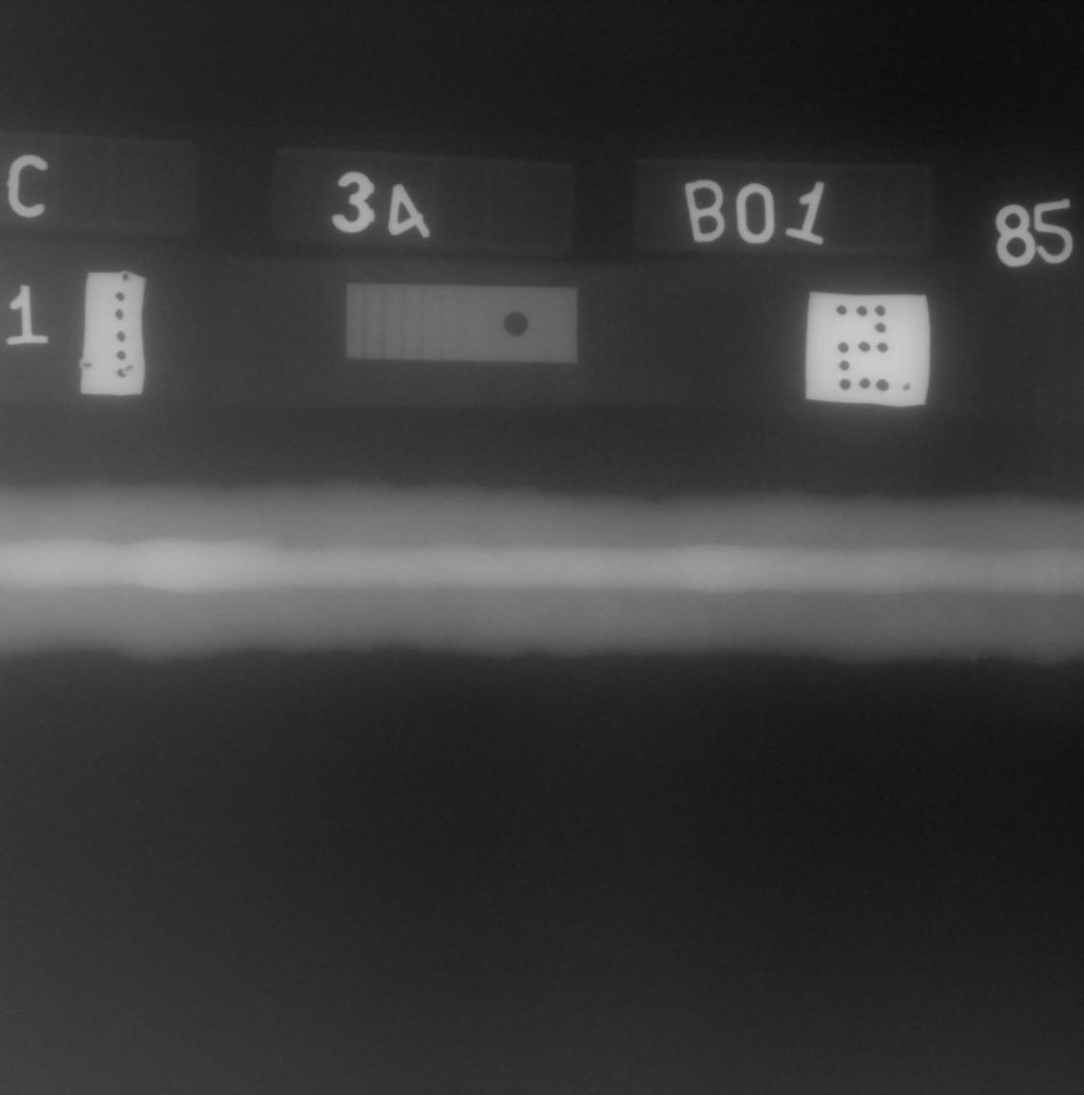Reference Standard 1: (346, 285, 577, 362)
